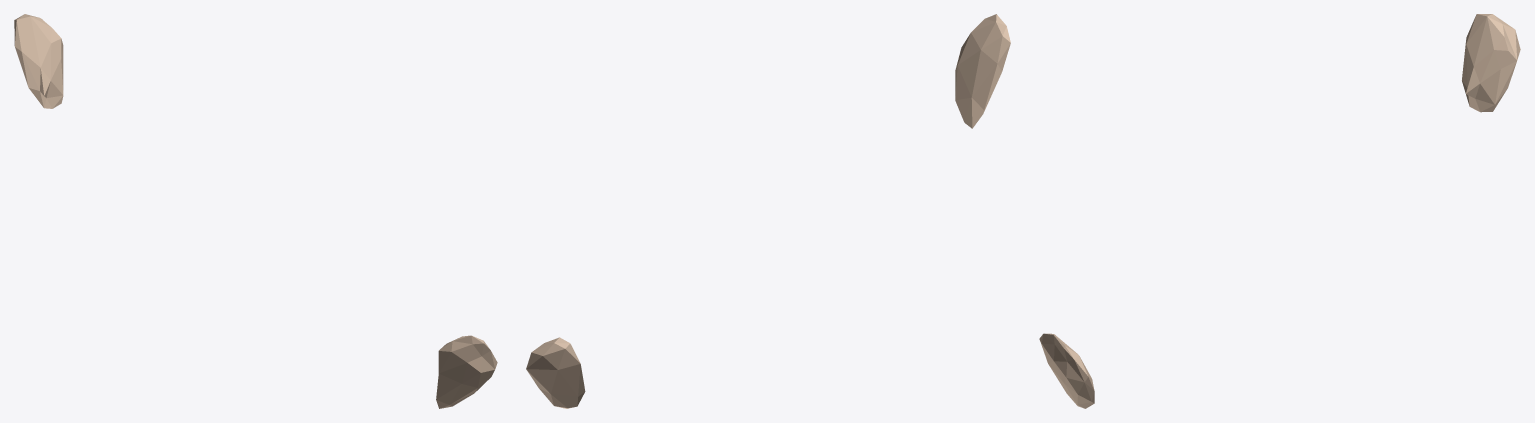
The picture shows the model from 3 angles, left to right: view 1: azimuth 30°, elevation 25°; view 2: azimuth 150°, elevation 25°; view 3: azimuth 330°, elevation 25°; orthographic projection.
Parts seen in each view (by area): view 1: 147.obj; view 2: 147.obj; view 3: 147.obj.
Boxes of the visible parts, x1,y1,x2,y2 form: 147.obj: (14, 14, 497, 408); 147.obj: (526, 14, 1010, 408); 147.obj: (1039, 14, 1520, 408).
Bounding box in the file's own units: 142 × 233 × 2031.
